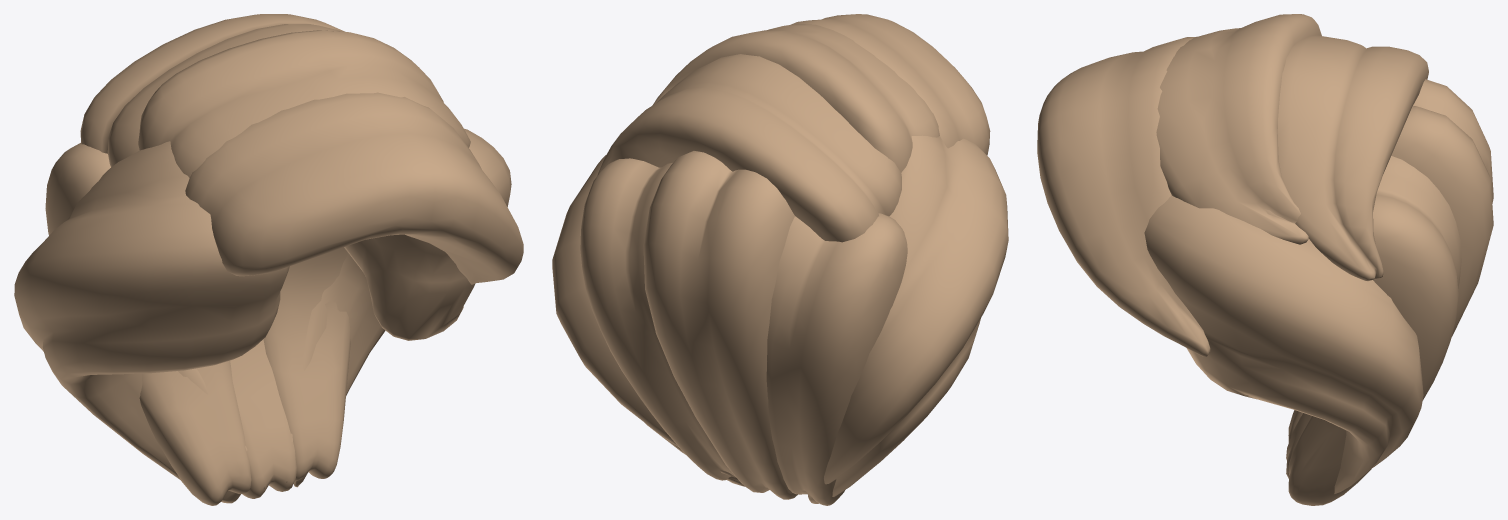
File: hair-11-fa6f935f.glb
3 views of the same model, side by side, from view 1: azimuth 30°, elevation 25°; view 2: azimuth 150°, elevation 25°; view 3: azimuth 270°, elevation 25° (orthographic). The views are drawn at different scales.
Parts seen in each view (by area): view 1: Geo_White_Older_Female_Hair_11.001; view 2: Geo_White_Older_Female_Hair_11.001; view 3: Geo_White_Older_Female_Hair_11.001.
Boxes of the visible parts, <box> form: Geo_White_Older_Female_Hair_11.001: <box>14,14,523,505</box>; Geo_White_Older_Female_Hair_11.001: <box>552,14,1008,505</box>; Geo_White_Older_Female_Hair_11.001: <box>1037,14,1493,505</box>.
Bounding box in the file's own units: 1.92 × 1.97 × 1.79.
